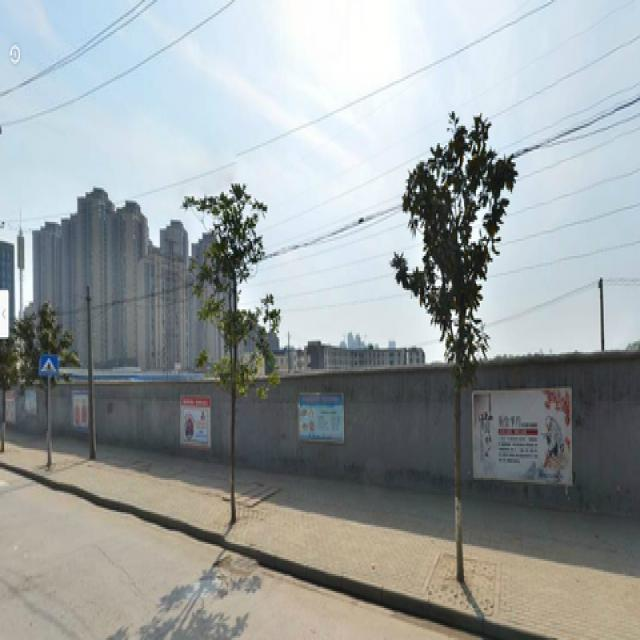magn: (417, 143, 492, 561), (192, 196, 275, 516)
